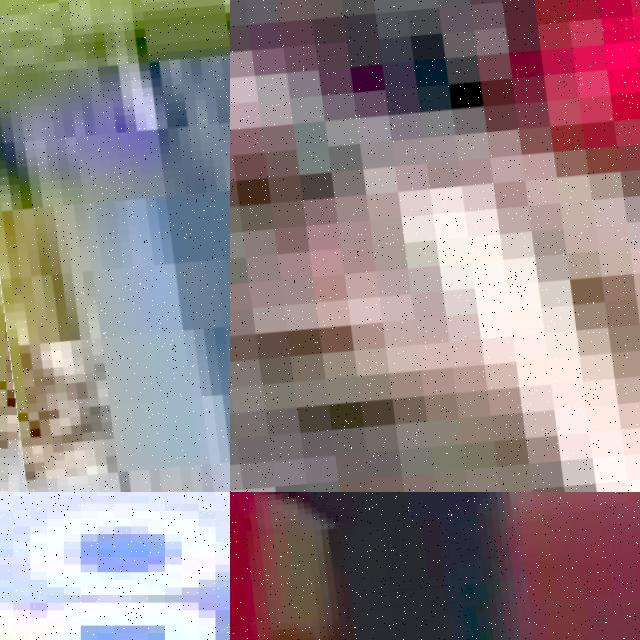drone: (230, 0, 640, 492), (0, 0, 230, 492), (230, 492, 640, 640)
